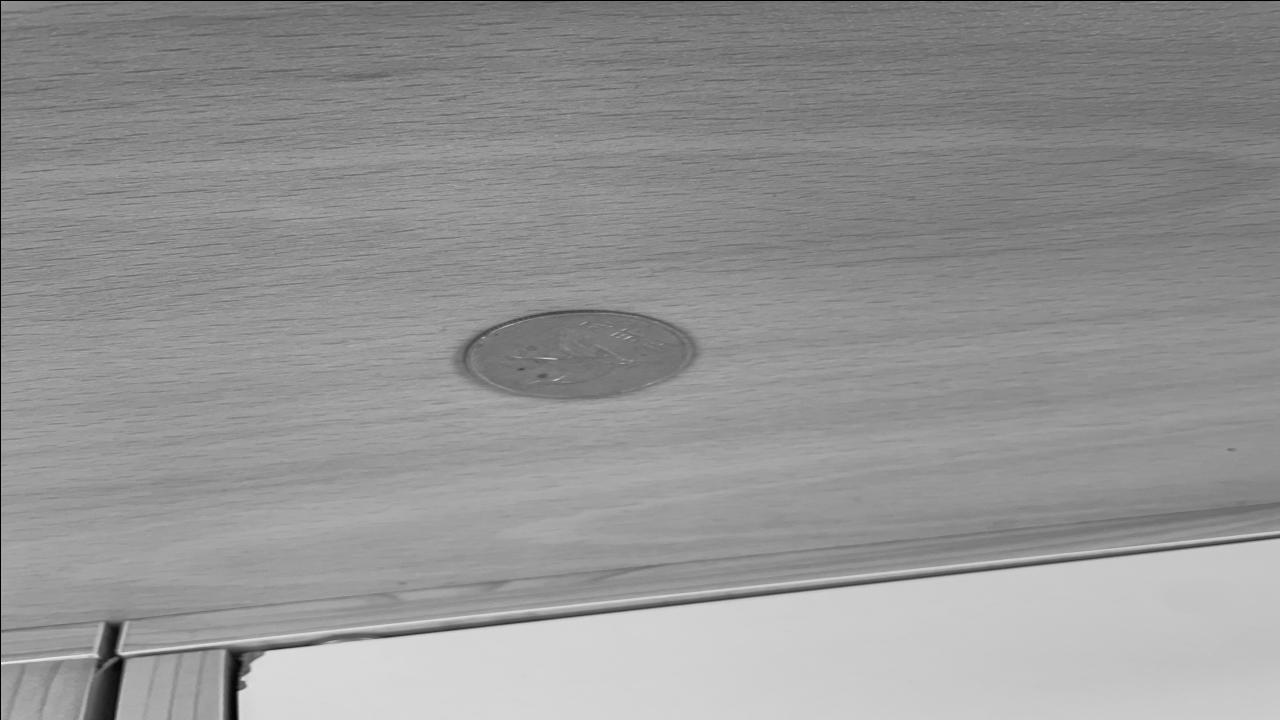coin: (456, 309, 696, 399)
